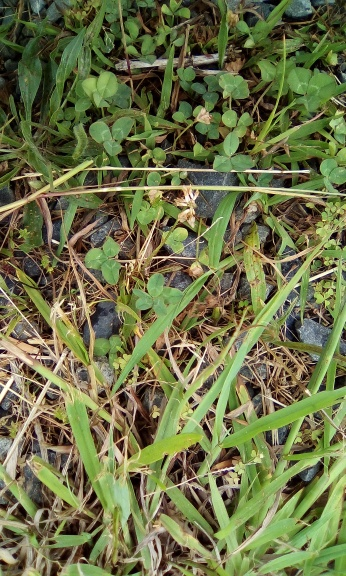4leaf: (132, 272, 185, 318)
